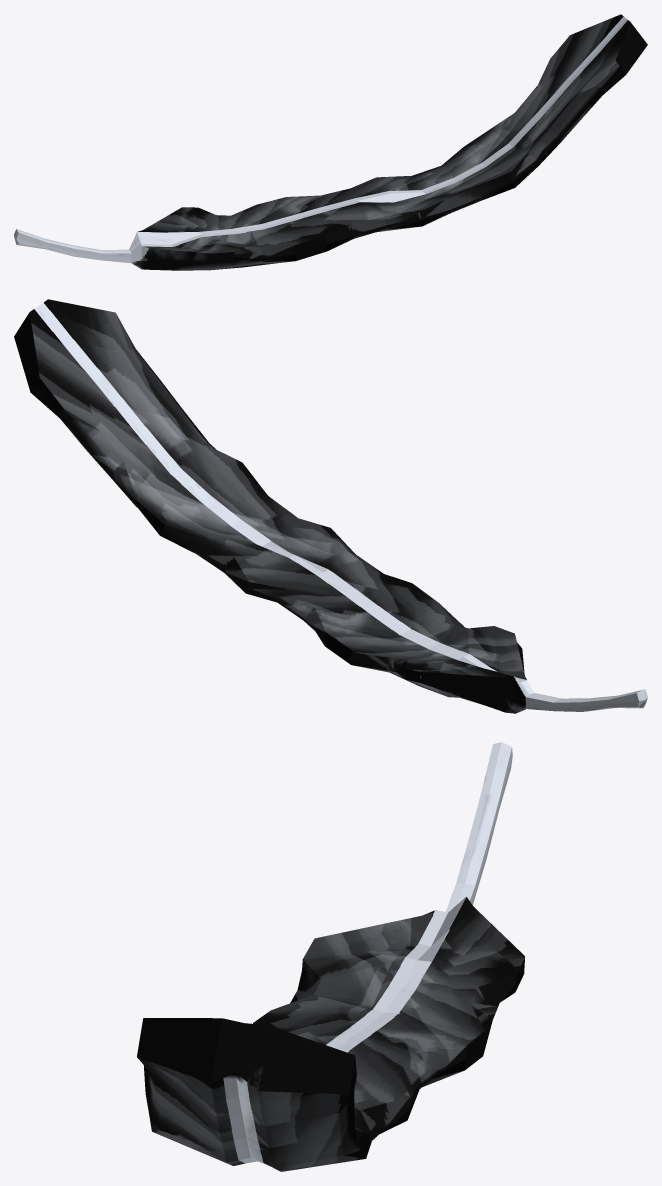
Rendered from crowfeather.fbx.
The picture shows the model from 3 angles, top to bottom: view 1: azimuth 30°, elevation 25°; view 2: azimuth 150°, elevation 25°; view 3: azimuth 270°, elevation 25°; orthographic projection. The views are drawn at different scales.
Visible parts, largest first — view 1: Cube.002; view 2: Cube.002; view 3: Cube.002.
Boxes of the visible parts, x1=… form: Cube.002: x1=14, y1=14, x2=647, y2=270; Cube.002: x1=14, y1=299, x2=647, y2=713; Cube.002: x1=137, y1=742, x2=524, y2=1171.
Size of the model in its own units: 11904 by 3802 by 3551.
1 material, 1 textured.
